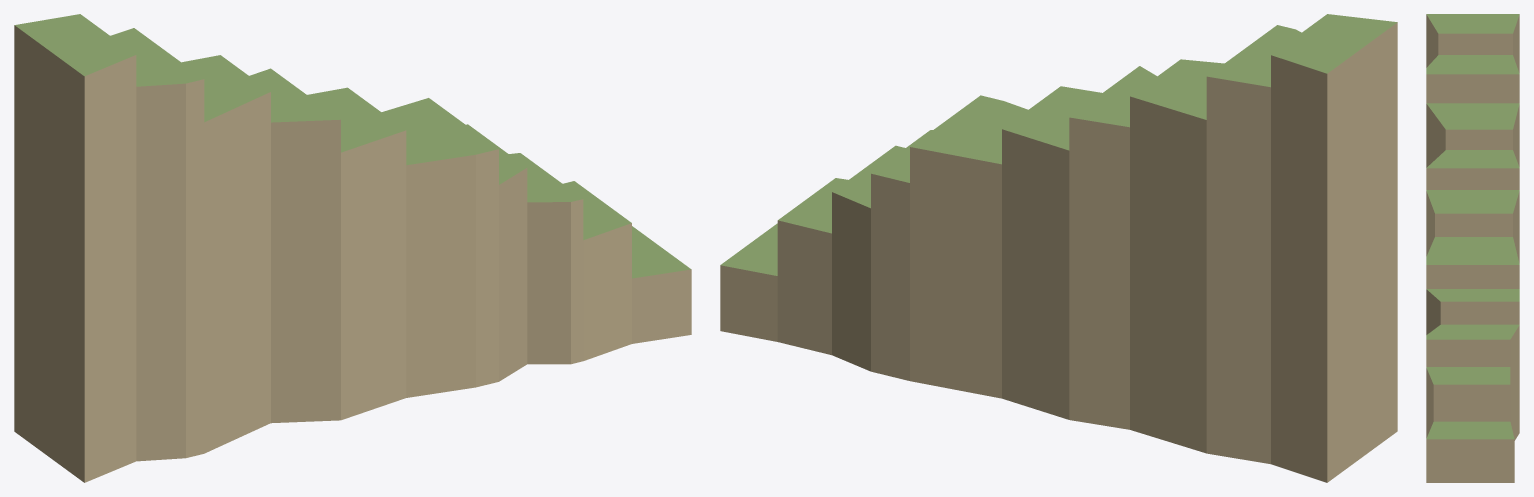
The model's file is Dirt.fbx.
3 views of the same model, side by side, from view 1: azimuth 30°, elevation 25°; view 2: azimuth 150°, elevation 25°; view 3: azimuth 270°, elevation 25° (orthographic). The views are drawn at different scales.
Parts seen in each view (by area): view 1: Terrain_Modular_Tiles_Grass_Dirt_Stairs_01.001, Terrain_Modular_Tiles_Grass_Dirt_Stairs_01; view 2: Terrain_Modular_Tiles_Grass_Dirt_Stairs_01.001, Terrain_Modular_Tiles_Grass_Dirt_Stairs_01; view 3: Terrain_Modular_Tiles_Grass_Dirt_Stairs_01.001, Terrain_Modular_Tiles_Grass_Dirt_Stairs_01.
Boxes of the visible parts, x1=… form: Terrain_Modular_Tiles_Grass_Dirt_Stairs_01.001: x1=14, y1=25, x2=691, y2=482; Terrain_Modular_Tiles_Grass_Dirt_Stairs_01: x1=14, y1=14, x2=690, y2=278; Terrain_Modular_Tiles_Grass_Dirt_Stairs_01.001: x1=720, y1=22, x2=1397, y2=482; Terrain_Modular_Tiles_Grass_Dirt_Stairs_01: x1=720, y1=14, x2=1397, y2=275; Terrain_Modular_Tiles_Grass_Dirt_Stairs_01.001: x1=1426, y1=14, x2=1519, y2=482; Terrain_Modular_Tiles_Grass_Dirt_Stairs_01: x1=1426, y1=14, x2=1519, y2=439.
Size of the model in its own units: 375 by 240 by 75.
